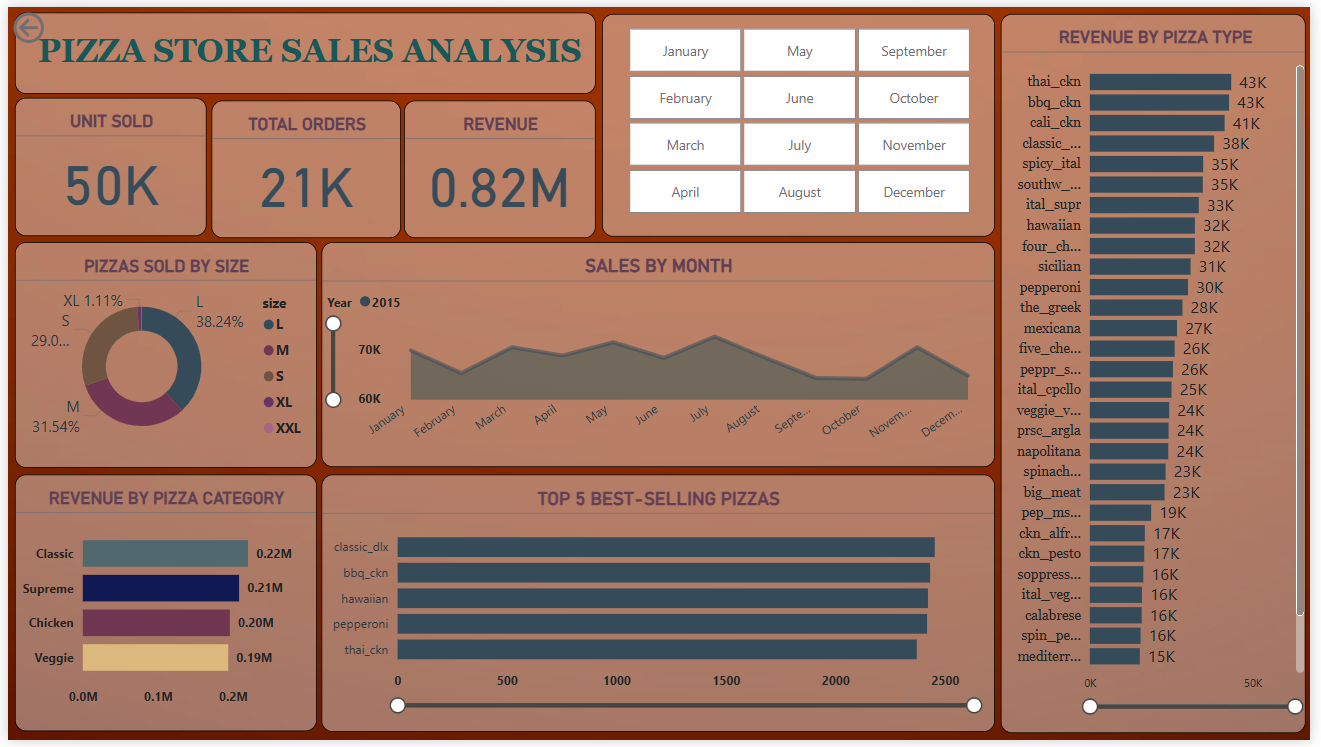

This screenshot's page, from the dashboard's own definition file:
{"tool":"powerbi","page":{"name":"Page 1","canvas":[1280,720],"ordinal":0},"visuals":[{"type":"card","title":"REVENUE","fields":{"Values":["Order_details.Total_revenue"]},"box":[389.8,91.5,188.1,135.6],"z":0},{"type":"card","title":"UNIT SOLD","fields":{"Values":["Sum(Order_details.quantity)"]},"box":[6.9,89.4,188.4,136.2],"z":1000},{"type":"card","title":"TOTAL ORDERS","fields":{"Values":["Order_details.Total_orders"]},"box":[200,91.5,186.4,135.6],"z":2000},{"type":"barChart","title":"REVENUE BY PIZZA CATEGORY","fields":{"Category":["Pizza_types.category"],"Y":["Order_details.Total_revenue"]},"box":[6.8,459.3,296.6,252.6],"z":3000},{"type":"barChart","title":"REVENUE BY PIZZA TYPE","fields":{"Category":["Pizzas.pizza_type_id"],"Y":["Order_details.Total_revenue"]},"box":[975.1,6.9,299.8,706.9],"z":4000},{"type":"donutChart","title":"PIZZAS SOLD BY SIZE","fields":{"Category":["Pizzas.size"],"Y":["Sum(Order_details.quantity)"]},"box":[6.8,230.5,296.6,222],"z":5000},{"type":"textbox","box":[6.8,5.1,571.2,79.7],"z":6000},{"type":"stackedAreaChart","title":"SALES BY MONTH","fields":{"Y":["Order_details.Total_revenue"],"Series":["Orders.date.Variation.Date Hierarchy.Year"],"Category":["Orders.date.Variation.Date Hierarchy.Month","Orders.date.Variation.Date Hierarchy.Day"]},"box":[308.1,231,661.5,221.4],"z":7000},{"type":"barChart","title":"TOP 5 BEST-SELLING PIZZAS","fields":{"Category":["Pizza_types.pizza_type_id"],"Y":["Sum(Order_details.quantity)"]},"box":[308.1,459.3,661.5,253.1],"z":8000},{"type":"slicer","fields":{"Values":["Orders.date.Variation.Date Hierarchy.Month"]},"box":[583.1,6.9,386.5,218.7],"z":9000},{"type":"actionButton","box":[0,0,100,40],"z":10000}]}

Visuals, with their boxes in screenshot pixels (x1, y1, x2, y2), scaled from the page's 1280x720 canvas onto the 1321x747 screenshot:
"REVENUE" card: bbox(402, 95, 596, 236)
"UNIT SOLD" card: bbox(7, 93, 202, 234)
"TOTAL ORDERS" card: bbox(206, 95, 399, 236)
"REVENUE BY PIZZA CATEGORY" barChart: bbox(7, 477, 313, 739)
"REVENUE BY PIZZA TYPE" barChart: bbox(1006, 7, 1316, 741)
"PIZZAS SOLD BY SIZE" donutChart: bbox(7, 239, 313, 469)
textbox: bbox(7, 5, 597, 88)
"SALES BY MONTH" stackedAreaChart: bbox(318, 240, 1001, 469)
"TOP 5 BEST-SELLING PIZZAS" barChart: bbox(318, 477, 1001, 739)
slicer - Orders.date.Variation.Date Hierarchy.Month: bbox(602, 7, 1001, 234)
actionButton: bbox(0, 0, 103, 42)
